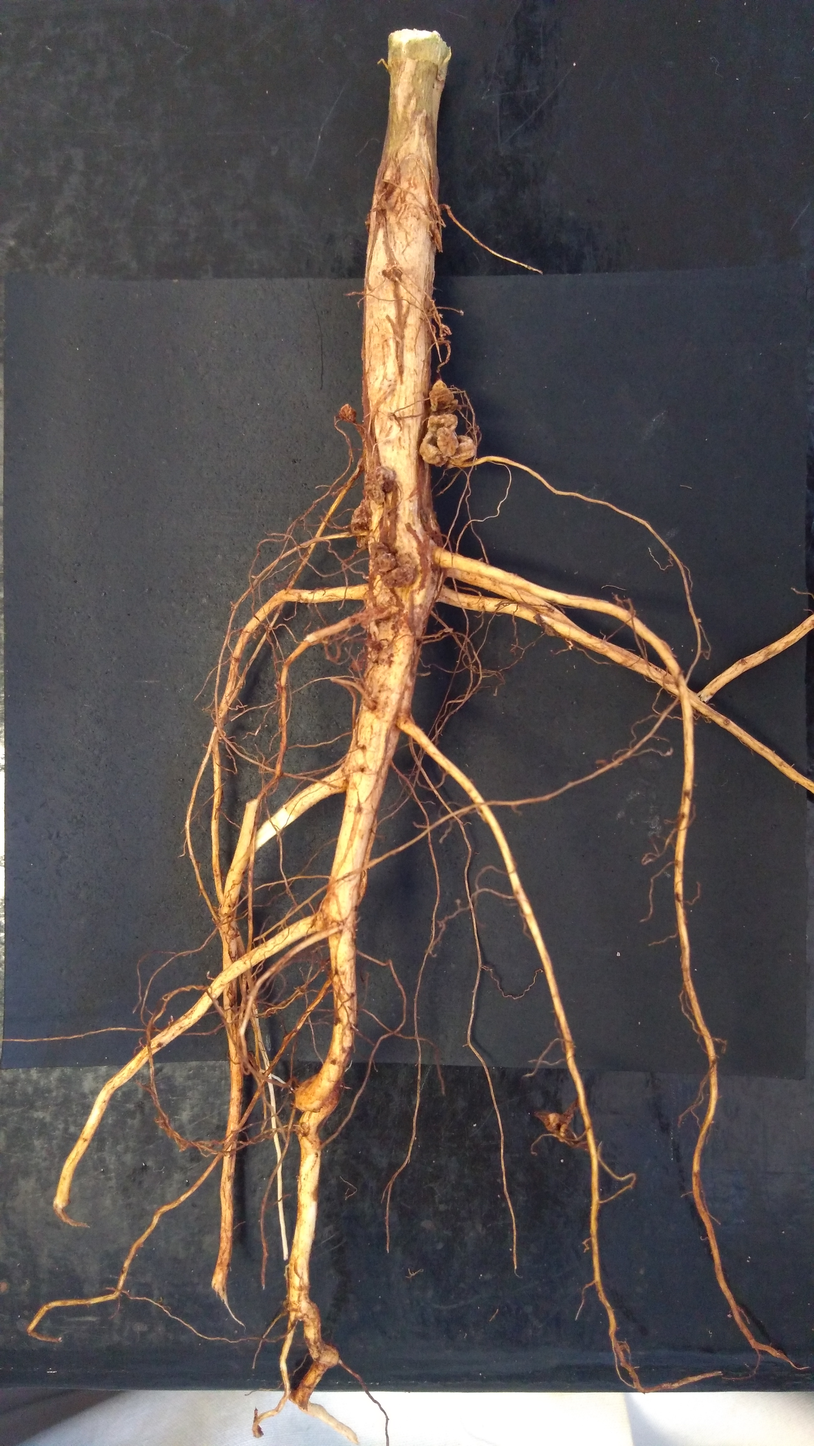nodule: (419, 427, 459, 468), (374, 590, 400, 650), (293, 1071, 327, 1113), (363, 465, 396, 506), (447, 433, 478, 469), (350, 498, 372, 548), (428, 379, 459, 414), (368, 540, 397, 575), (362, 589, 380, 644), (380, 563, 417, 589), (543, 1112, 571, 1142), (427, 413, 459, 433), (338, 403, 357, 424), (543, 623, 561, 637), (350, 659, 363, 672), (459, 310, 464, 315)
